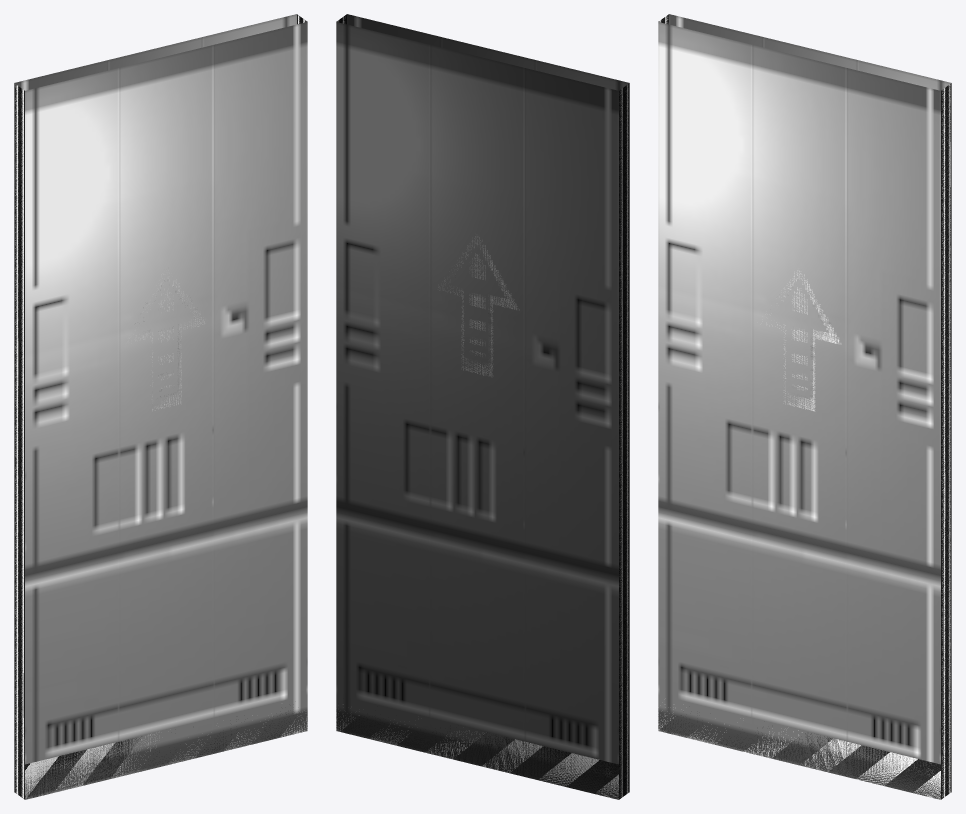
Rendered from Psev_door_v1Z.obj.
3 views of the same model, side by side, from view 1: azimuth 30°, elevation 25°; view 2: azimuth 150°, elevation 25°; view 3: azimuth 330°, elevation 25° (orthographic).
Size of the model in its own units: 876 by 2100 by 58.
Materials: 6 (6 with a texture image).
